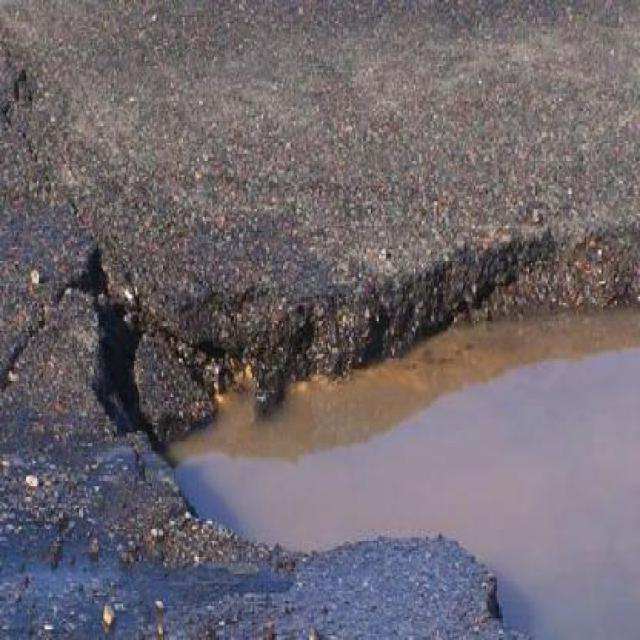pothole: (78, 213, 640, 639)
